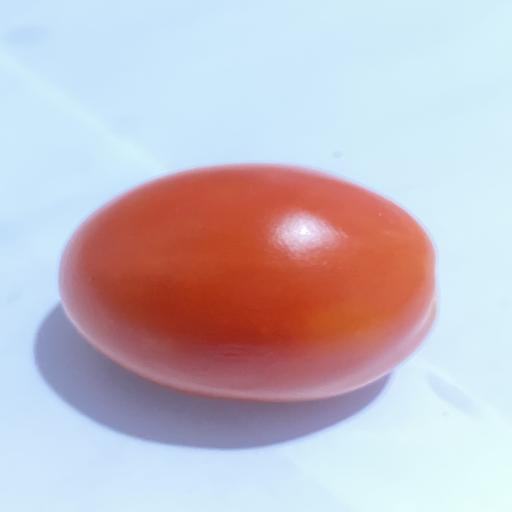ripe: (59, 164, 436, 402)
